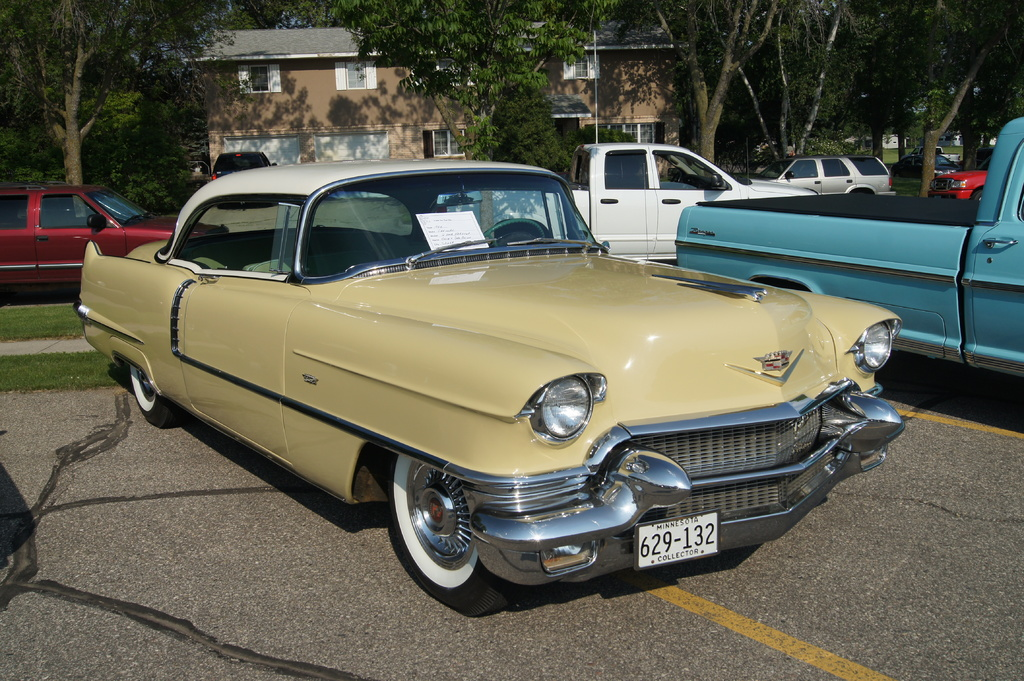Car: (72, 154, 903, 611), (0, 180, 232, 305), (746, 155, 890, 197), (210, 152, 275, 208), (933, 167, 989, 205)
